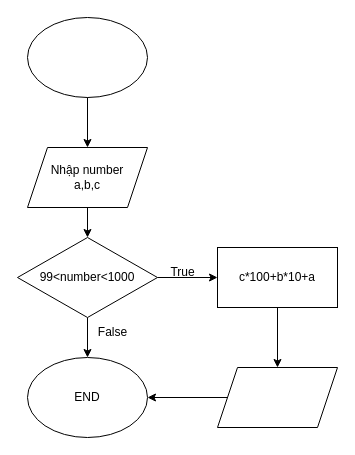
This 355x455 diagram has some shape labels left out. Each missing label, with the centre of its shape:
prinft: the point at 277,397
START: the point at 87,57
